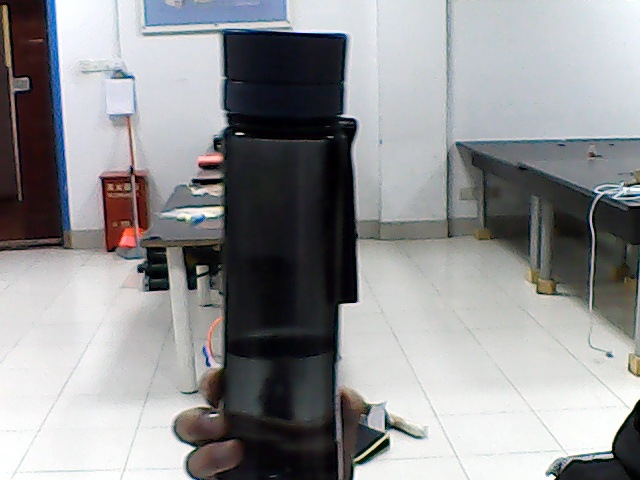cup: (237, 31, 329, 441)
